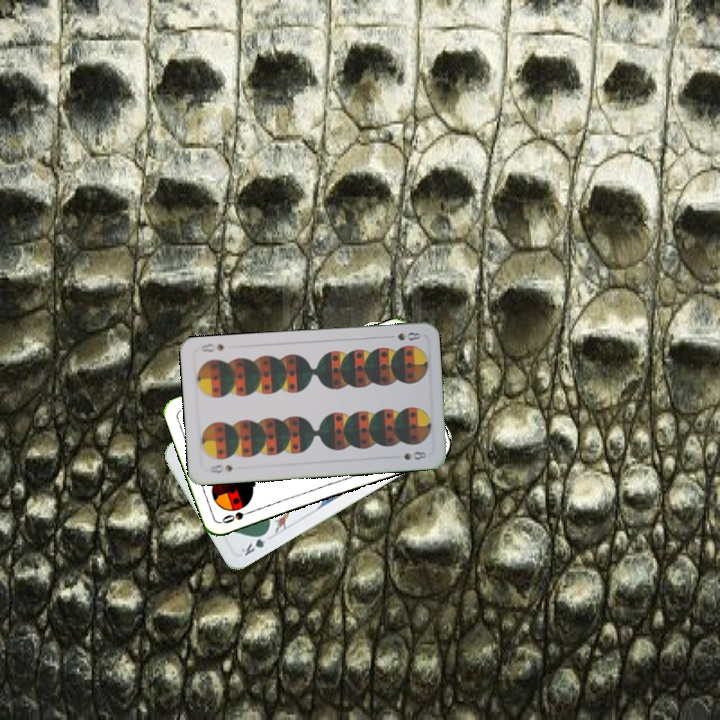GK: (237, 528, 272, 559)
S8: (393, 328, 423, 343), (206, 461, 235, 476)
SO: (218, 506, 257, 526)
